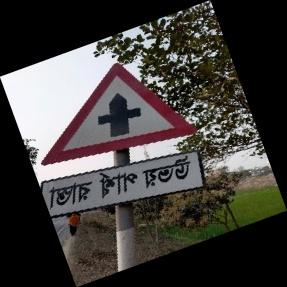Crossroad: (40, 65, 198, 272)
